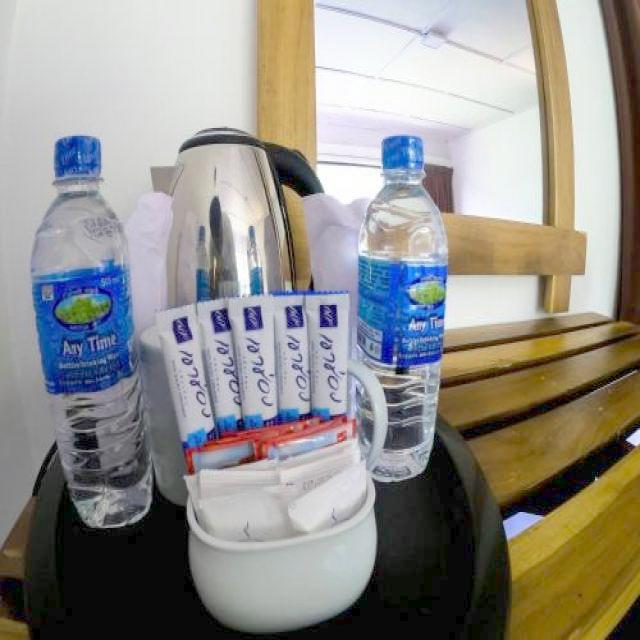bottle: (29, 135, 153, 529), (354, 135, 449, 483)
